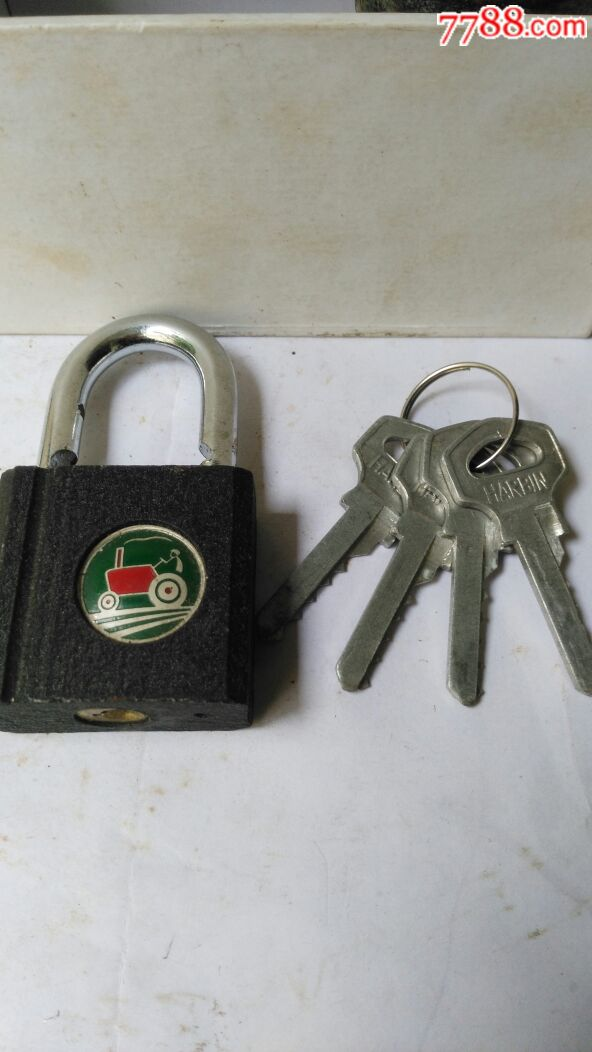key: (437, 416, 592, 690)
